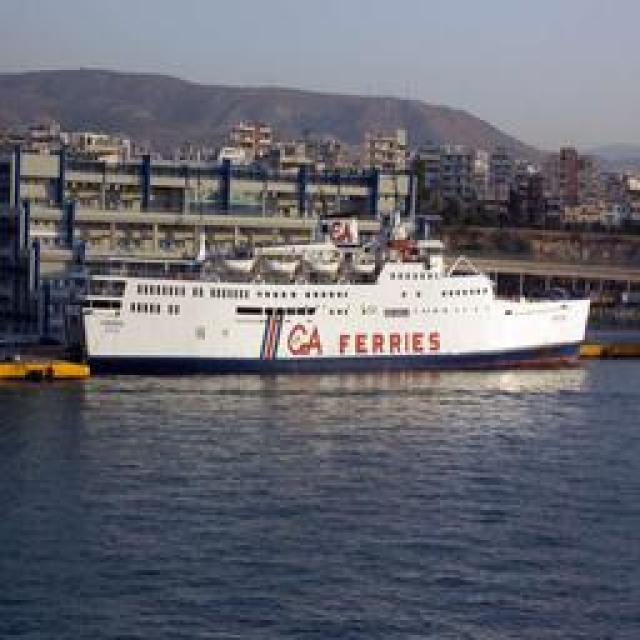CIV_Ship: (82, 254, 600, 372)
